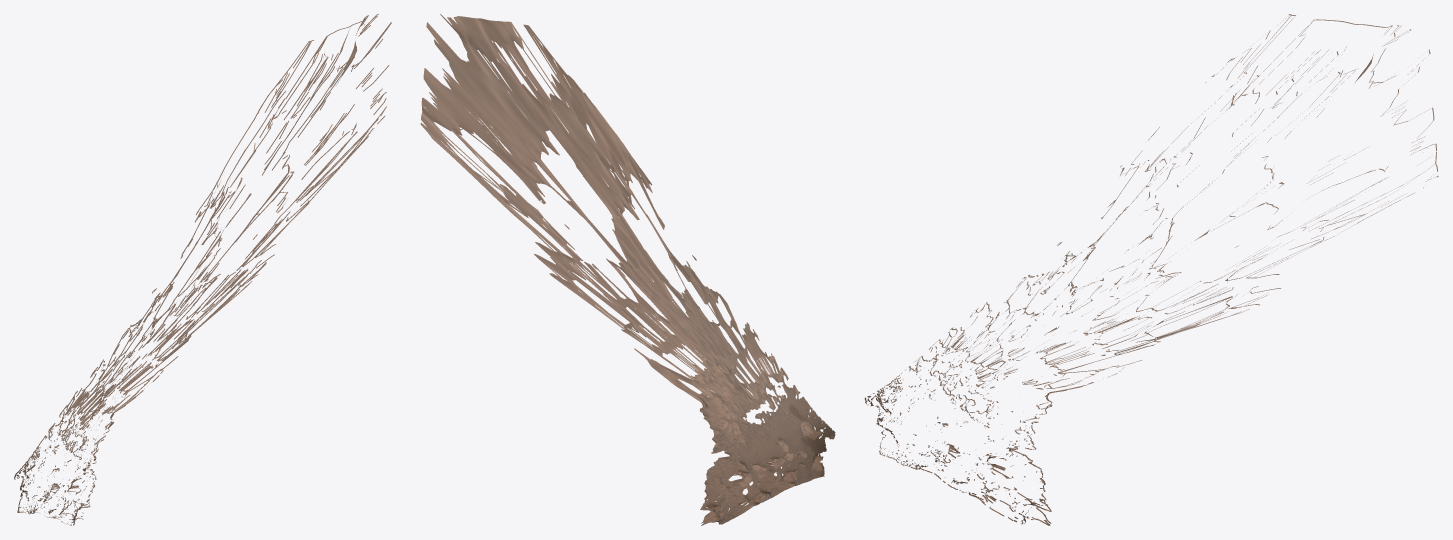
3 renders of one model, left to right at view 1: azimuth 30°, elevation 25°; view 2: azimuth 150°, elevation 25°; view 3: azimuth 330°, elevation 25°, orthographic. The views are drawn at different scales.
Size of the model in its own units: 31.17 by 33.42 by 4.83.
1 material, 1 textured.
